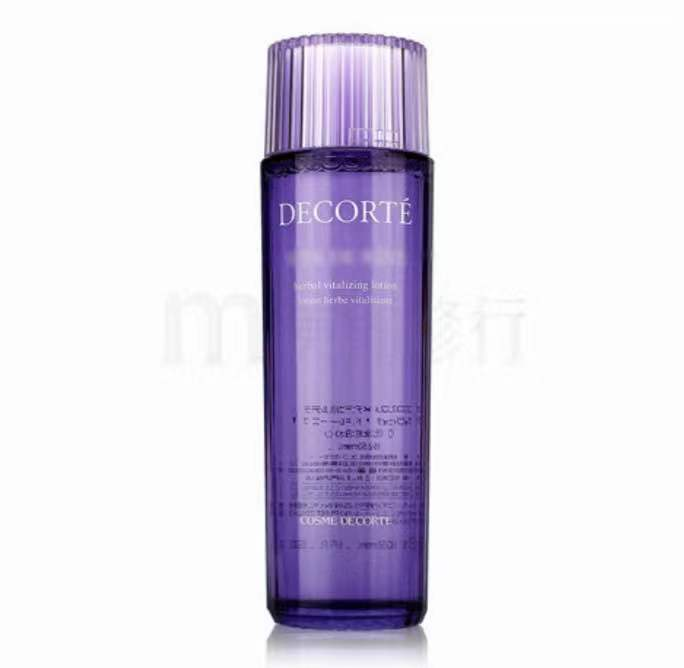cosmetic: (251, 40, 438, 631)
